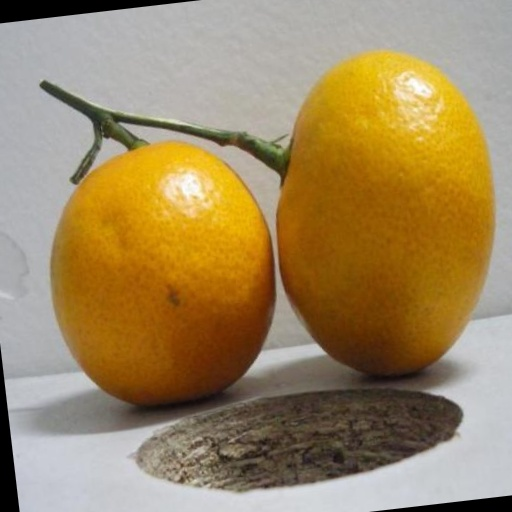fruit: (276, 51, 494, 375), (50, 142, 274, 405)
